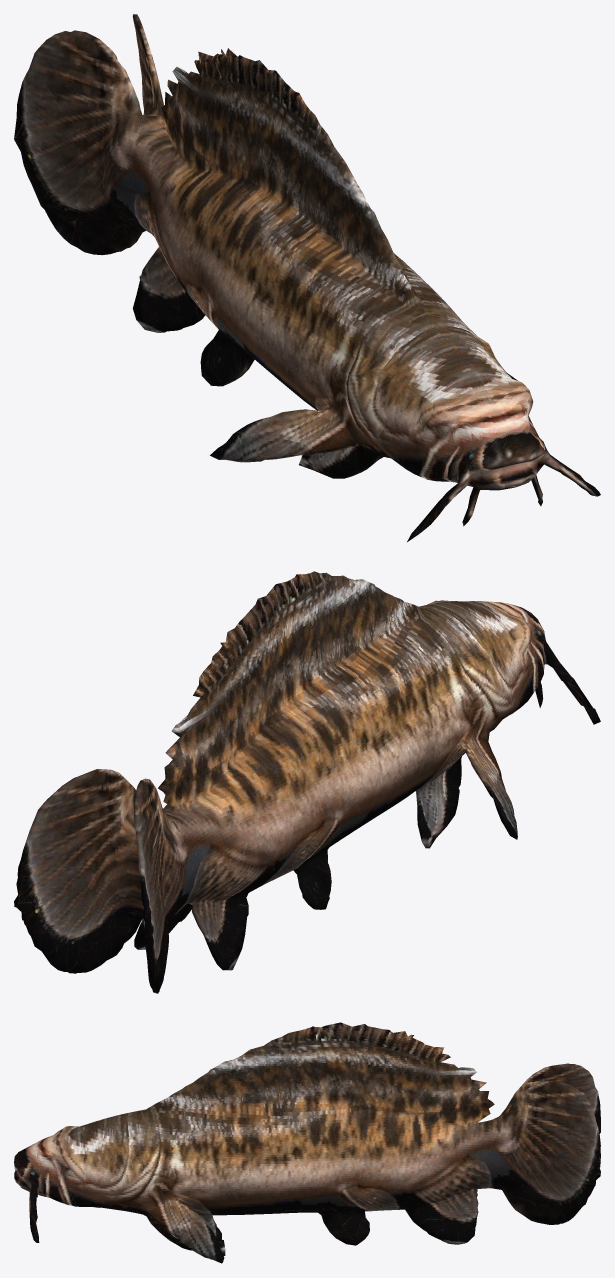
The model's file is fish_bowfin.glb.
3 renders of one model, top to bottom at view 1: azimuth 30°, elevation 25°; view 2: azimuth 150°, elevation 25°; view 3: azimuth 270°, elevation 25°, orthographic. The views are drawn at different scales.
Parts seen in each view (by area): view 1: geometry_0; view 2: geometry_0; view 3: geometry_0.
Part boxes in pixels (x1,y1,x2,y2): geometry_0: (14, 14, 600, 541); geometry_0: (14, 571, 600, 993); geometry_0: (14, 1022, 600, 1263).
Bounding box in the file's own units: 0.7938 × 0.7819 × 1.96.
Materials: 1 (1 with a texture image).
